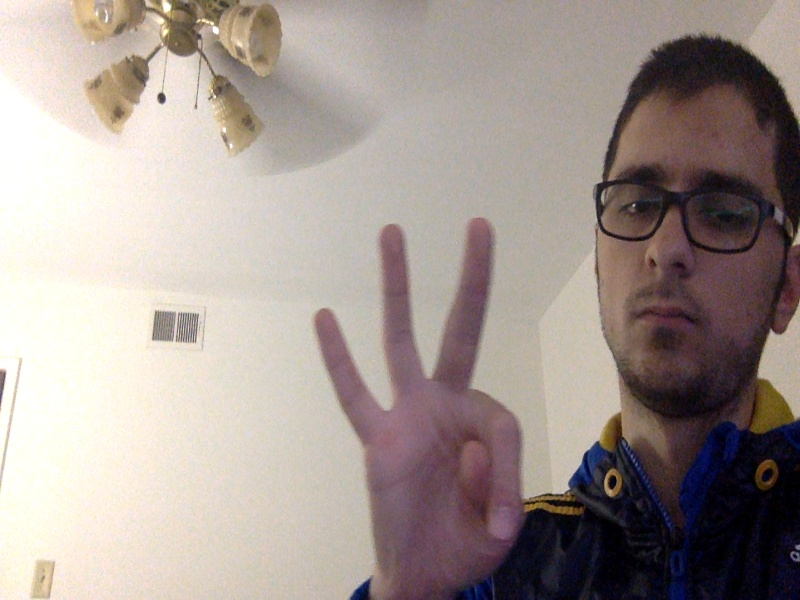3-hand: (314, 218, 525, 592)
